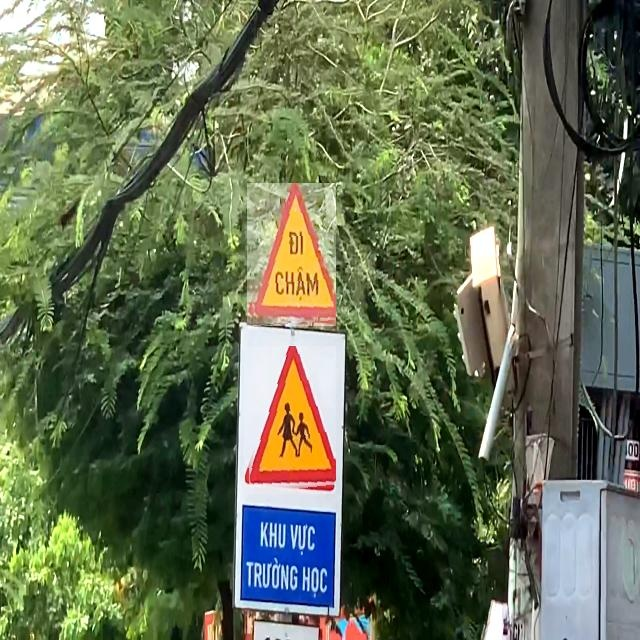bien_nguy_hiem: (244, 346, 336, 494), (247, 183, 336, 326)
